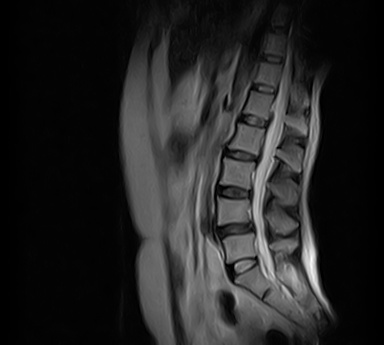L1,v2: (240, 92, 281, 115)
L1-L2,v4: (234, 109, 275, 132)
L2,v2: (227, 126, 268, 149)
L2-L3,v4: (221, 143, 262, 166)
L3,v2: (216, 162, 257, 185)
L3-L4,v2: (213, 181, 254, 204)
L4,v2: (212, 199, 253, 222)
L4-L5,v2: (215, 216, 256, 239)
L5,v2: (219, 235, 260, 258)
L5-S1,v1: (223, 252, 264, 275)
T12-L1,v1: (242, 77, 283, 100)
